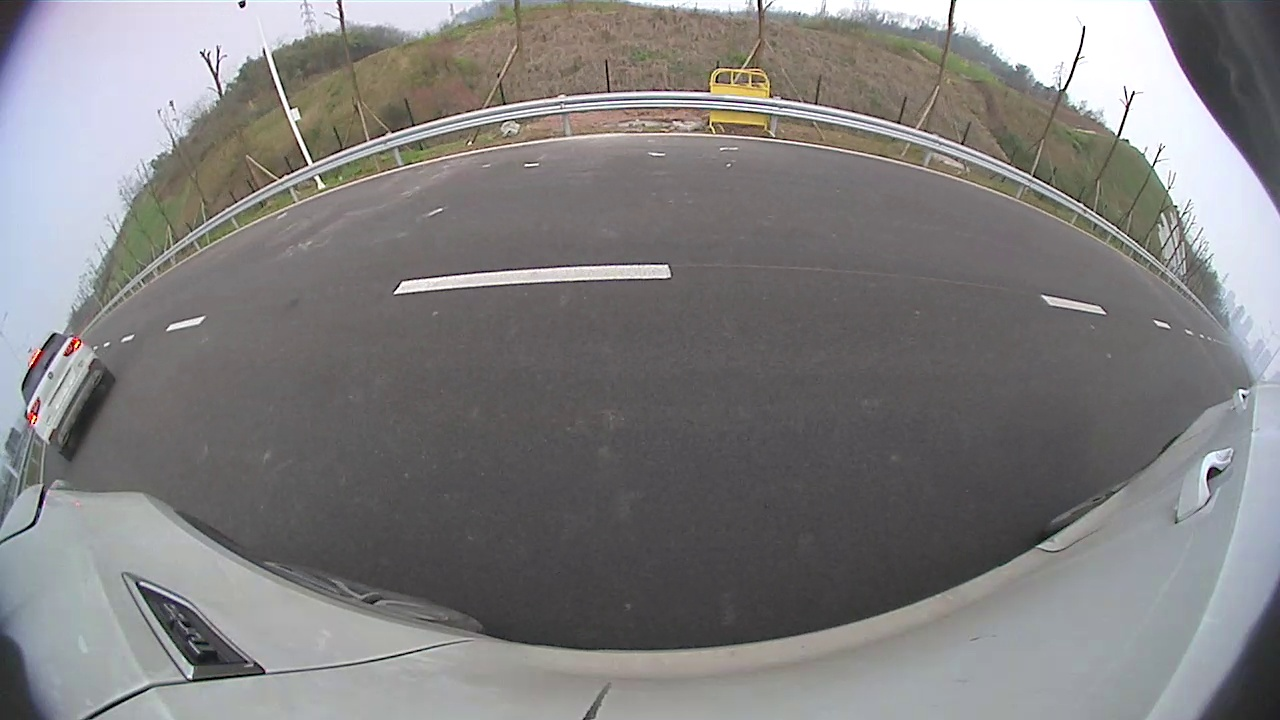car: (20, 330, 115, 461)
